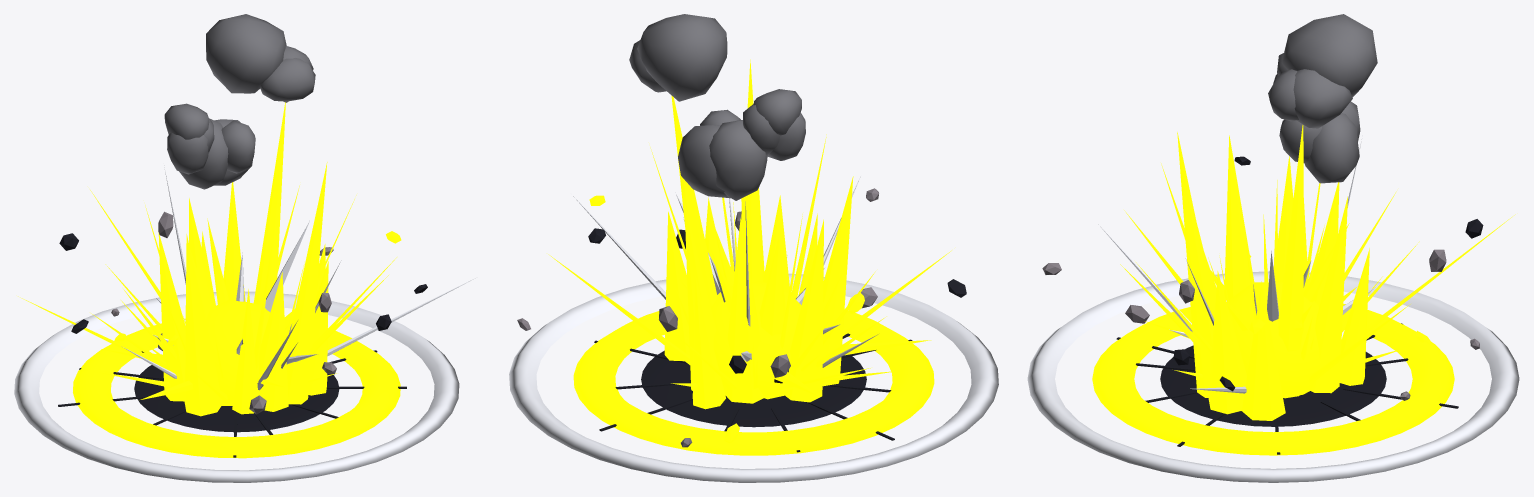
Rendered from GravitySniper_Impact_inc.fbx.
The picture shows the model from 3 angles, left to right: view 1: azimuth 30°, elevation 25°; view 2: azimuth 150°, elevation 25°; view 3: azimuth 270°, elevation 25°; orthographic projection. The views are drawn at different scales.
Parts seen in each view (by area): view 1: Imp_Humo_inc, Imp_Onda_inc, Imp_Chispas_inc, Imp_Flash_inc, Imp_Crater_inc, Imp_Escombros_inc; view 2: Imp_Humo_inc, Imp_Onda_inc, Imp_Crater_inc, Imp_Chispas_inc, Imp_Flash_inc, Imp_Escombros_inc; view 3: Imp_Humo_inc, Imp_Onda_inc, Imp_Crater_inc, Imp_Flash_inc, Imp_Chispas_inc, Imp_Escombros_inc.
Boxes of the visible parts, x1=… form: Imp_Humo_inc: x1=158, y1=14, x2=328, y2=416; Imp_Onda_inc: x1=14, y1=291, x2=459, y2=482; Imp_Chispas_inc: x1=18, y1=165, x2=475, y2=401; Imp_Flash_inc: x1=101, y1=218, x2=321, y2=405; Imp_Crater_inc: x1=58, y1=350, x2=406, y2=457; Imp_Escombros_inc: x1=59, y1=211, x2=427, y2=414; Imp_Humo_inc: x1=629, y1=14, x2=853, y2=409; Imp_Onda_inc: x1=509, y1=273, x2=998, y2=482; Imp_Crater_inc: x1=594, y1=333, x2=912, y2=452; Imp_Chispas_inc: x1=548, y1=134, x2=951, y2=391; Imp_Flash_inc: x1=676, y1=194, x2=931, y2=397; Imp_Escombros_inc: x1=517, y1=188, x2=966, y2=447; Imp_Humo_inc: x1=1177, y1=14, x2=1377, y2=420; Imp_Onda_inc: x1=1027, y1=271, x2=1519, y2=482; Imp_Crater_inc: x1=1116, y1=323, x2=1458, y2=454; Imp_Flash_inc: x1=1145, y1=223, x2=1376, y2=397; Imp_Chispas_inc: x1=1098, y1=139, x2=1515, y2=393; Imp_Escombros_inc: x1=1042, y1=156, x2=1483, y2=400.
Bounding box in the file's own units: 35.52 × 30.87 × 34.41.
